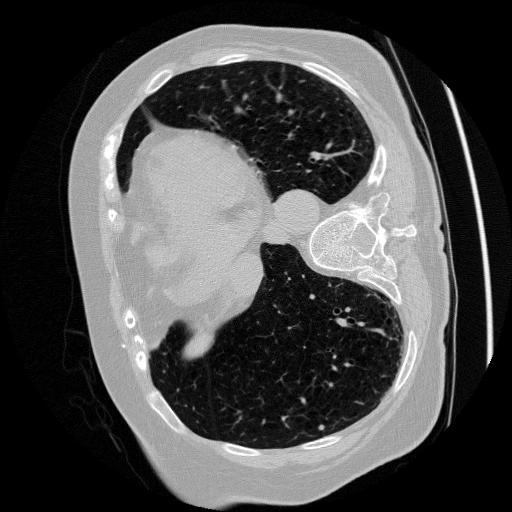nodule: (316, 423, 328, 435)
